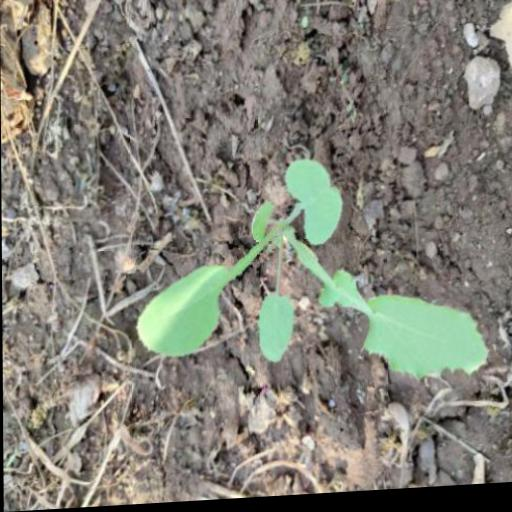crop: (124, 153, 486, 421)
